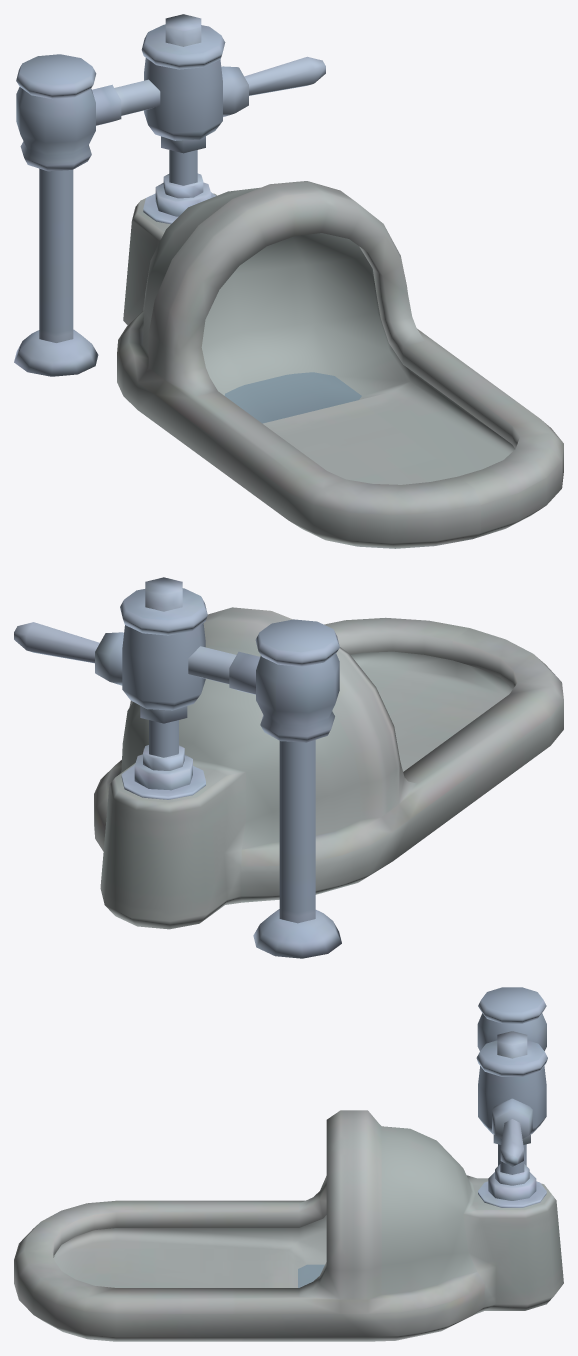
3 views of the same model, one above another, from view 1: azimuth 30°, elevation 25°; view 2: azimuth 150°, elevation 25°; view 3: azimuth 270°, elevation 25° (orthographic). The views are drawn at different scales.
Bounding box in the file's own units: 5.21 × 5.02 × 9.79.
2 materials, 1 textured.
